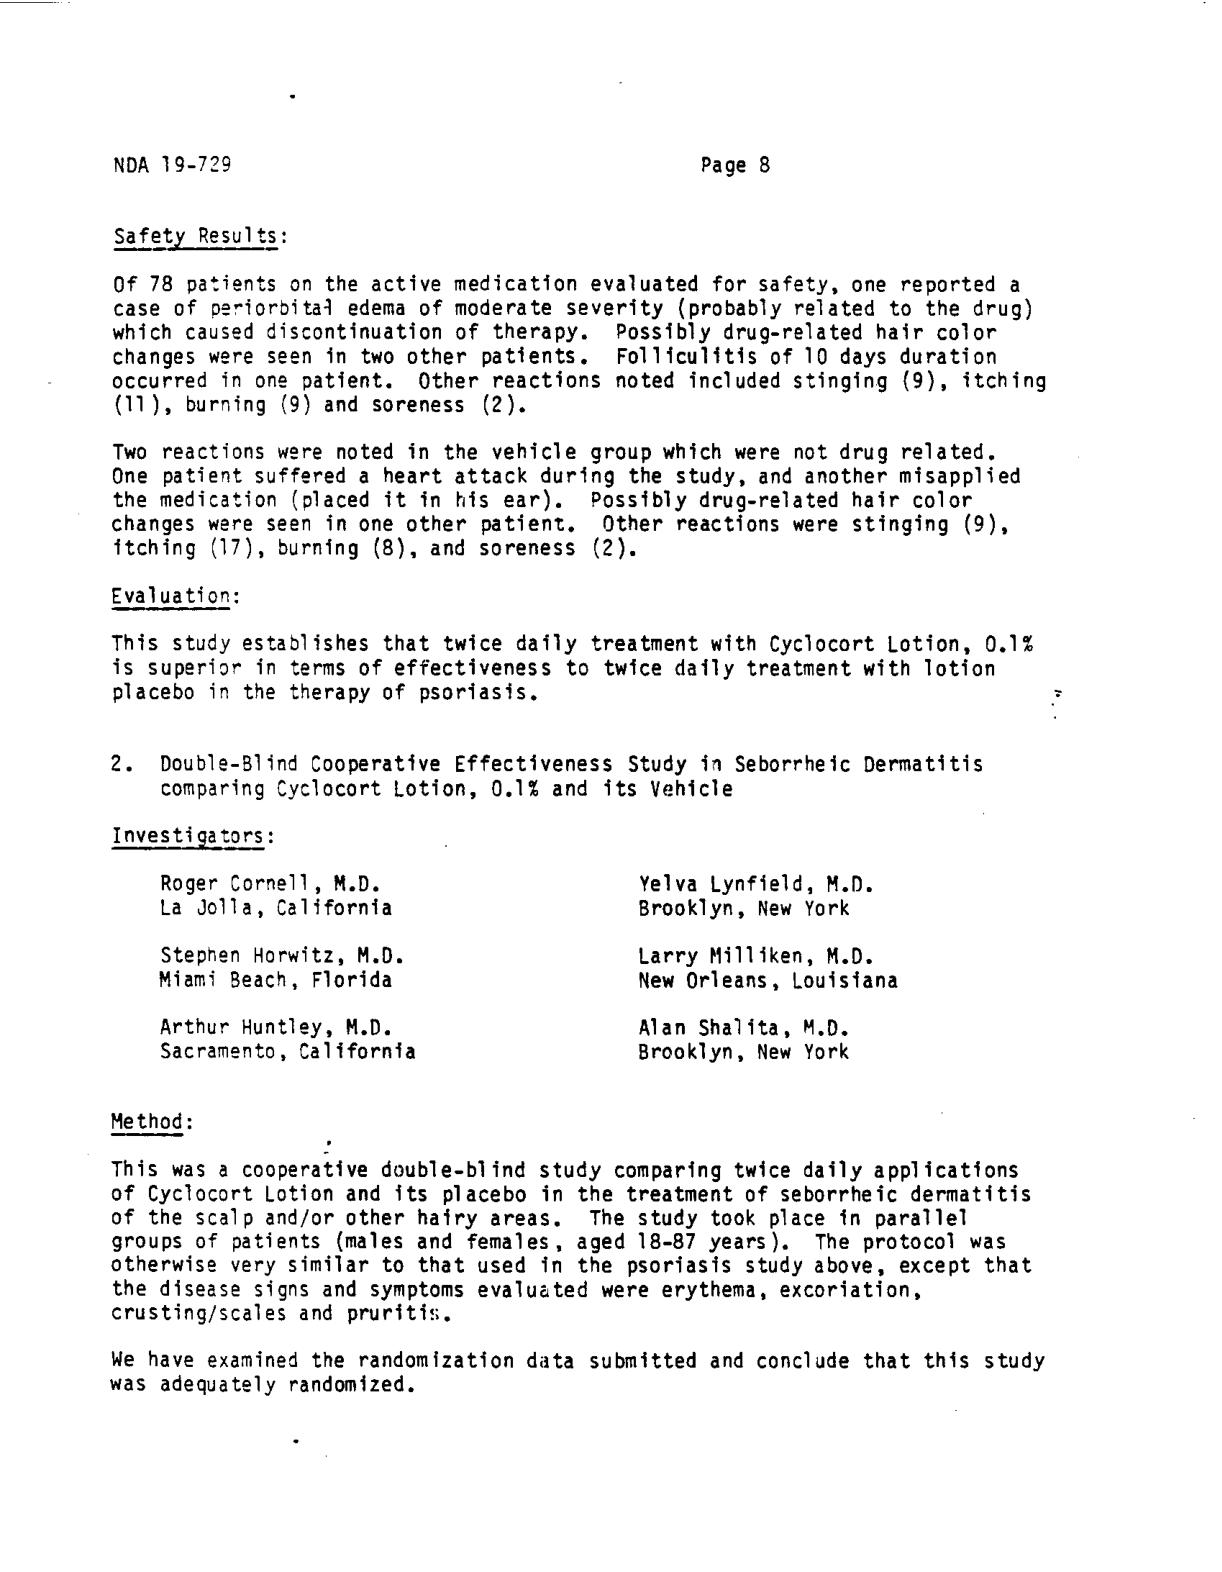nolines: (158, 871, 899, 1065)
